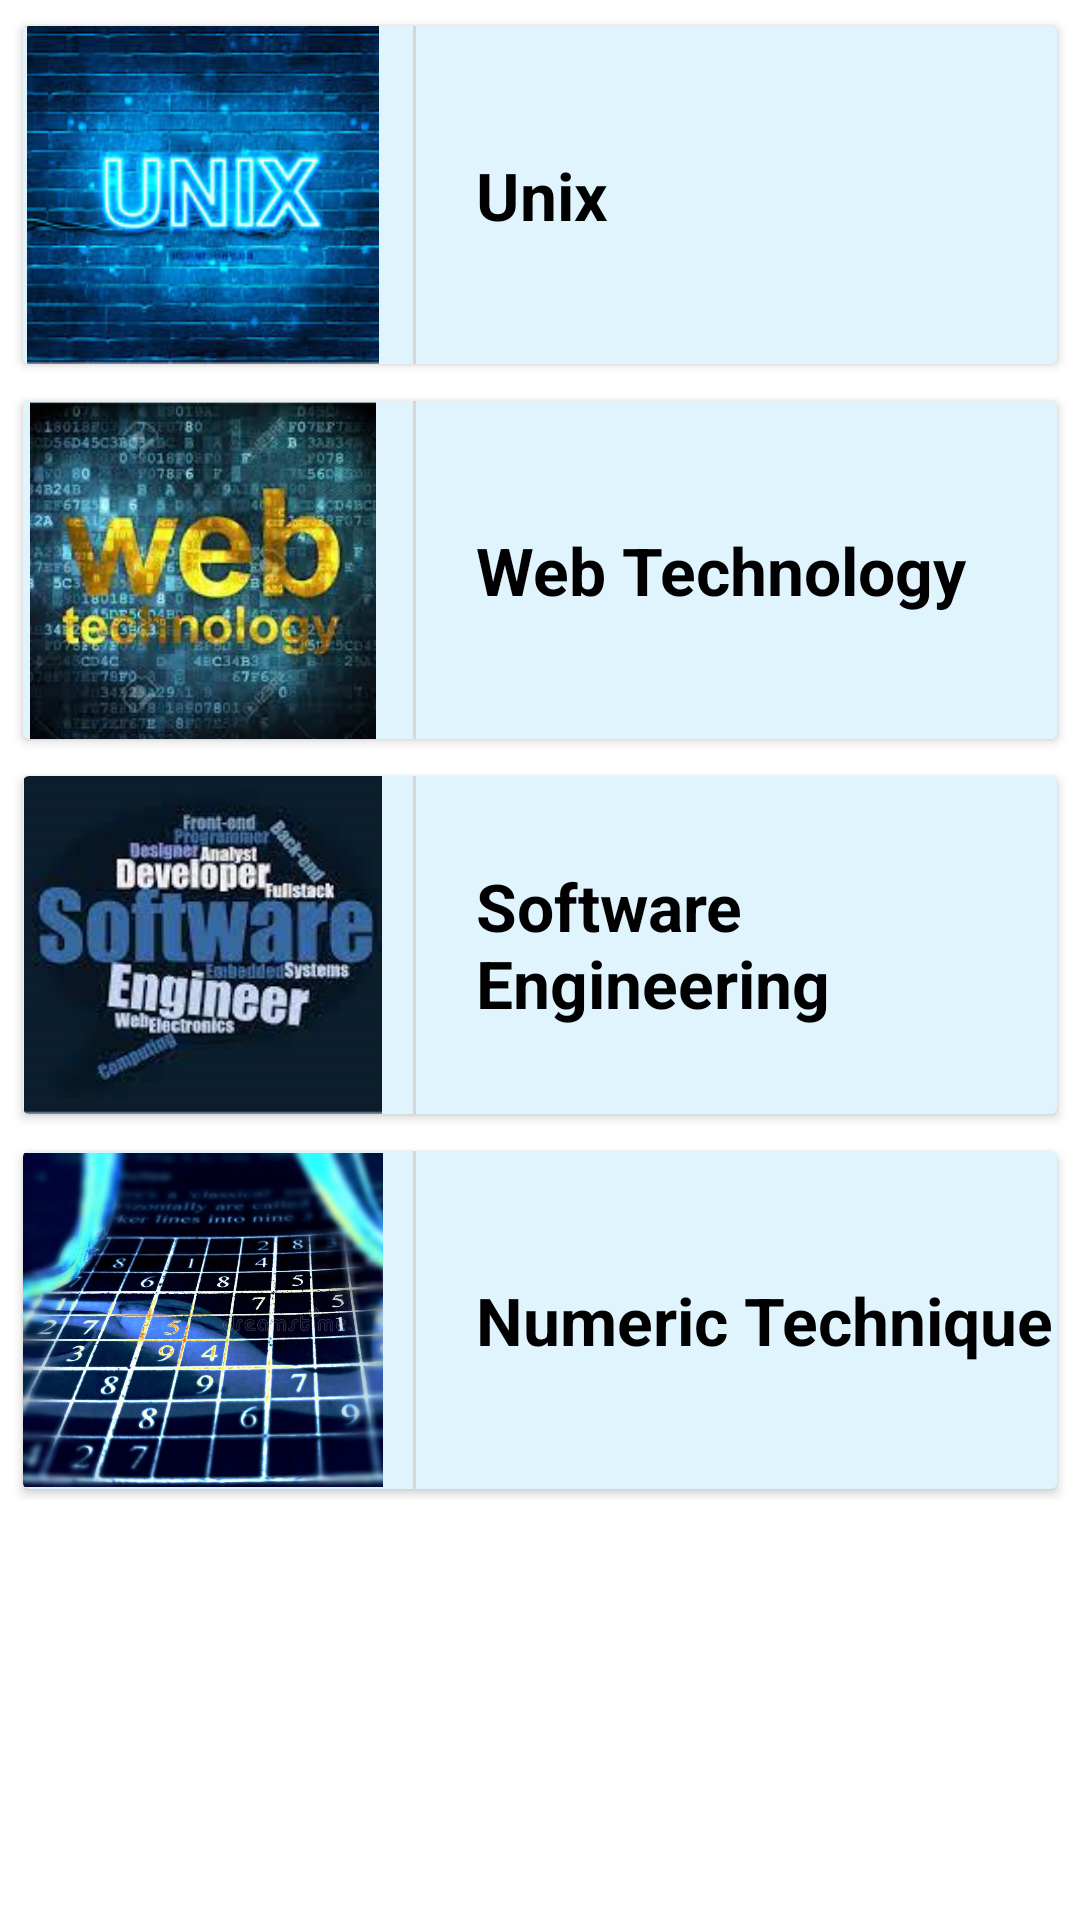

Point at icon controls on the screen. Image size 1080 × 1920, points as point (x, y).
numericsys: point (203, 1320)
